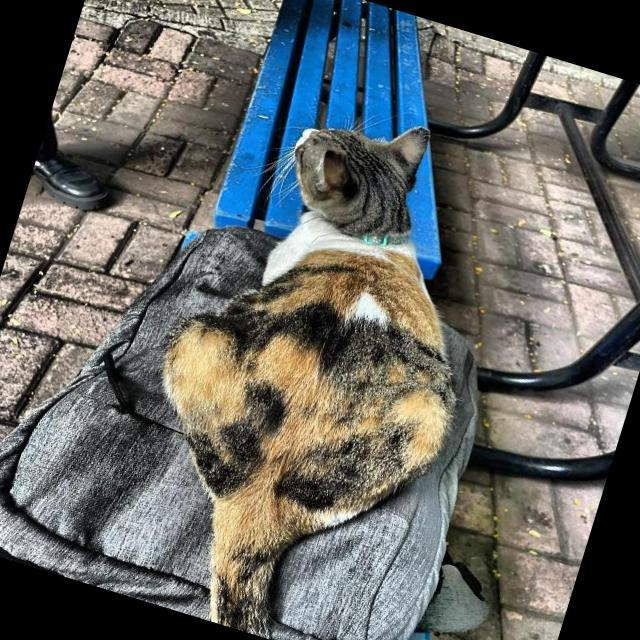Healthy skin: (194, 362, 418, 512), (255, 220, 413, 381), (298, 102, 431, 232)
